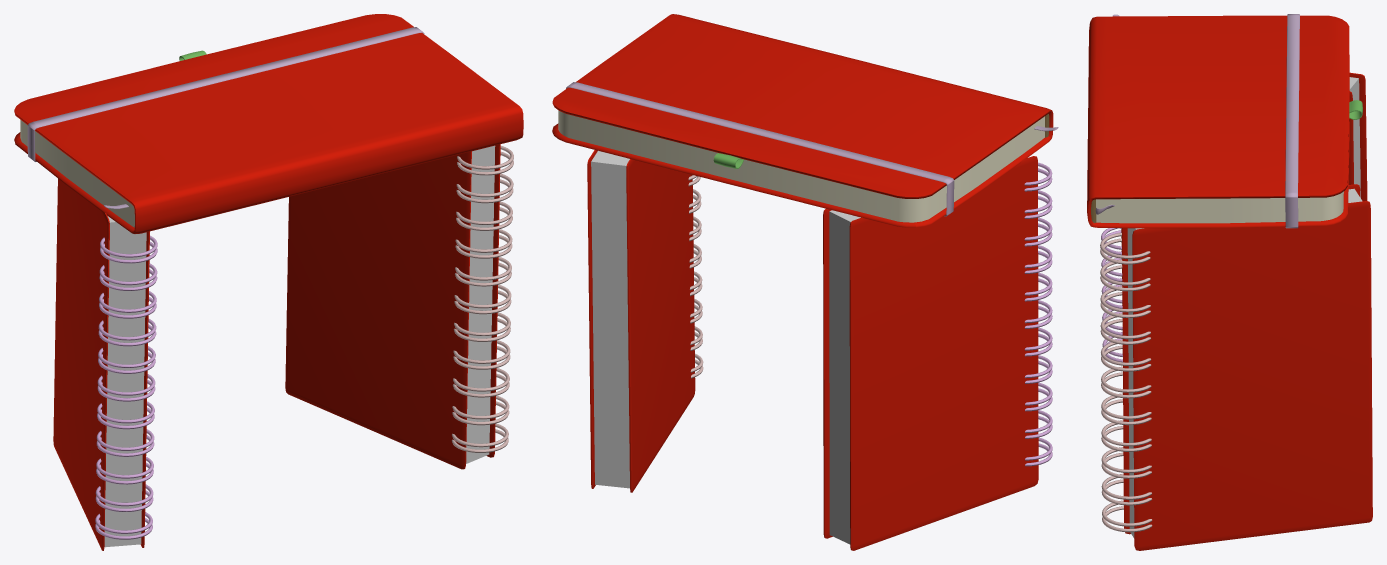
The picture shows the model from 3 angles, left to right: view 1: azimuth 30°, elevation 25°; view 2: azimuth 150°, elevation 25°; view 3: azimuth 270°, elevation 25°; orthographic projection. The views are drawn at different scales.
Parts seen in each view (by area): view 1: leather_notebook.009, notebook_with_springs.005, notebook_with_springs.004; view 2: notebook_with_springs.004, leather_notebook.009, notebook_with_springs.005; view 3: notebook_with_springs.005, leather_notebook.009, notebook_with_springs.004.
Part boxes in pixels (x1,y1,x2,y2): leather_notebook.009: [14, 14, 523, 233]; notebook_with_springs.005: [285, 144, 513, 469]; notebook_with_springs.004: [53, 178, 157, 550]; notebook_with_springs.004: [823, 156, 1052, 550]; leather_notebook.009: [552, 14, 1058, 227]; notebook_with_springs.005: [587, 150, 703, 492]; notebook_with_springs.005: [1100, 184, 1372, 550]; leather_notebook.009: [1087, 14, 1362, 228]; notebook_with_springs.004: [1101, 72, 1367, 362].
Size of the model in its own units: 2325 by 1997 by 1437.
